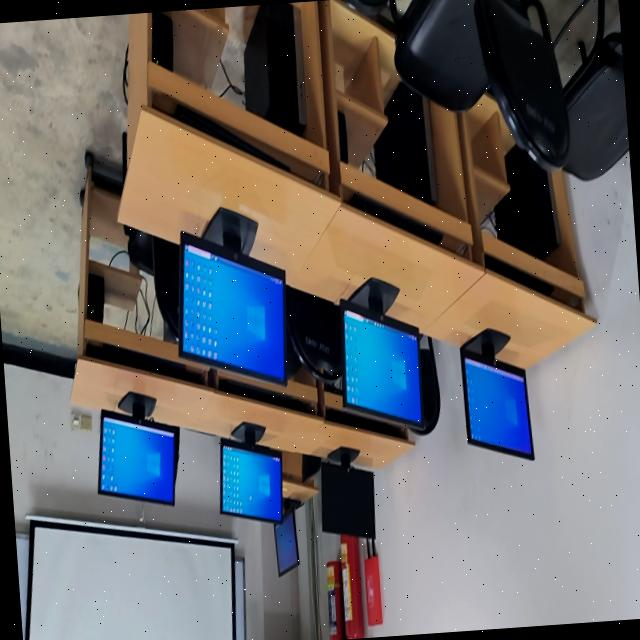Chair: (393, 0, 568, 167), (562, 0, 629, 179), (122, 224, 178, 340), (286, 286, 339, 382), (409, 337, 438, 434), (121, 131, 125, 177)
Cpu: (243, 2, 304, 133), (372, 81, 434, 202), (493, 145, 556, 257)
Fire Extinguisher: (338, 534, 363, 639), (325, 561, 343, 640)
Keyboard: (172, 103, 288, 170), (348, 193, 441, 243), (87, 342, 198, 381), (483, 253, 553, 295), (219, 378, 307, 409), (325, 406, 404, 435)
Monitor: (177, 207, 287, 383), (337, 277, 423, 426), (458, 328, 533, 459), (97, 391, 178, 504), (218, 422, 281, 522), (319, 447, 373, 537), (273, 505, 298, 576)
